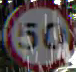Speed limit: (4, 0, 75, 70)
